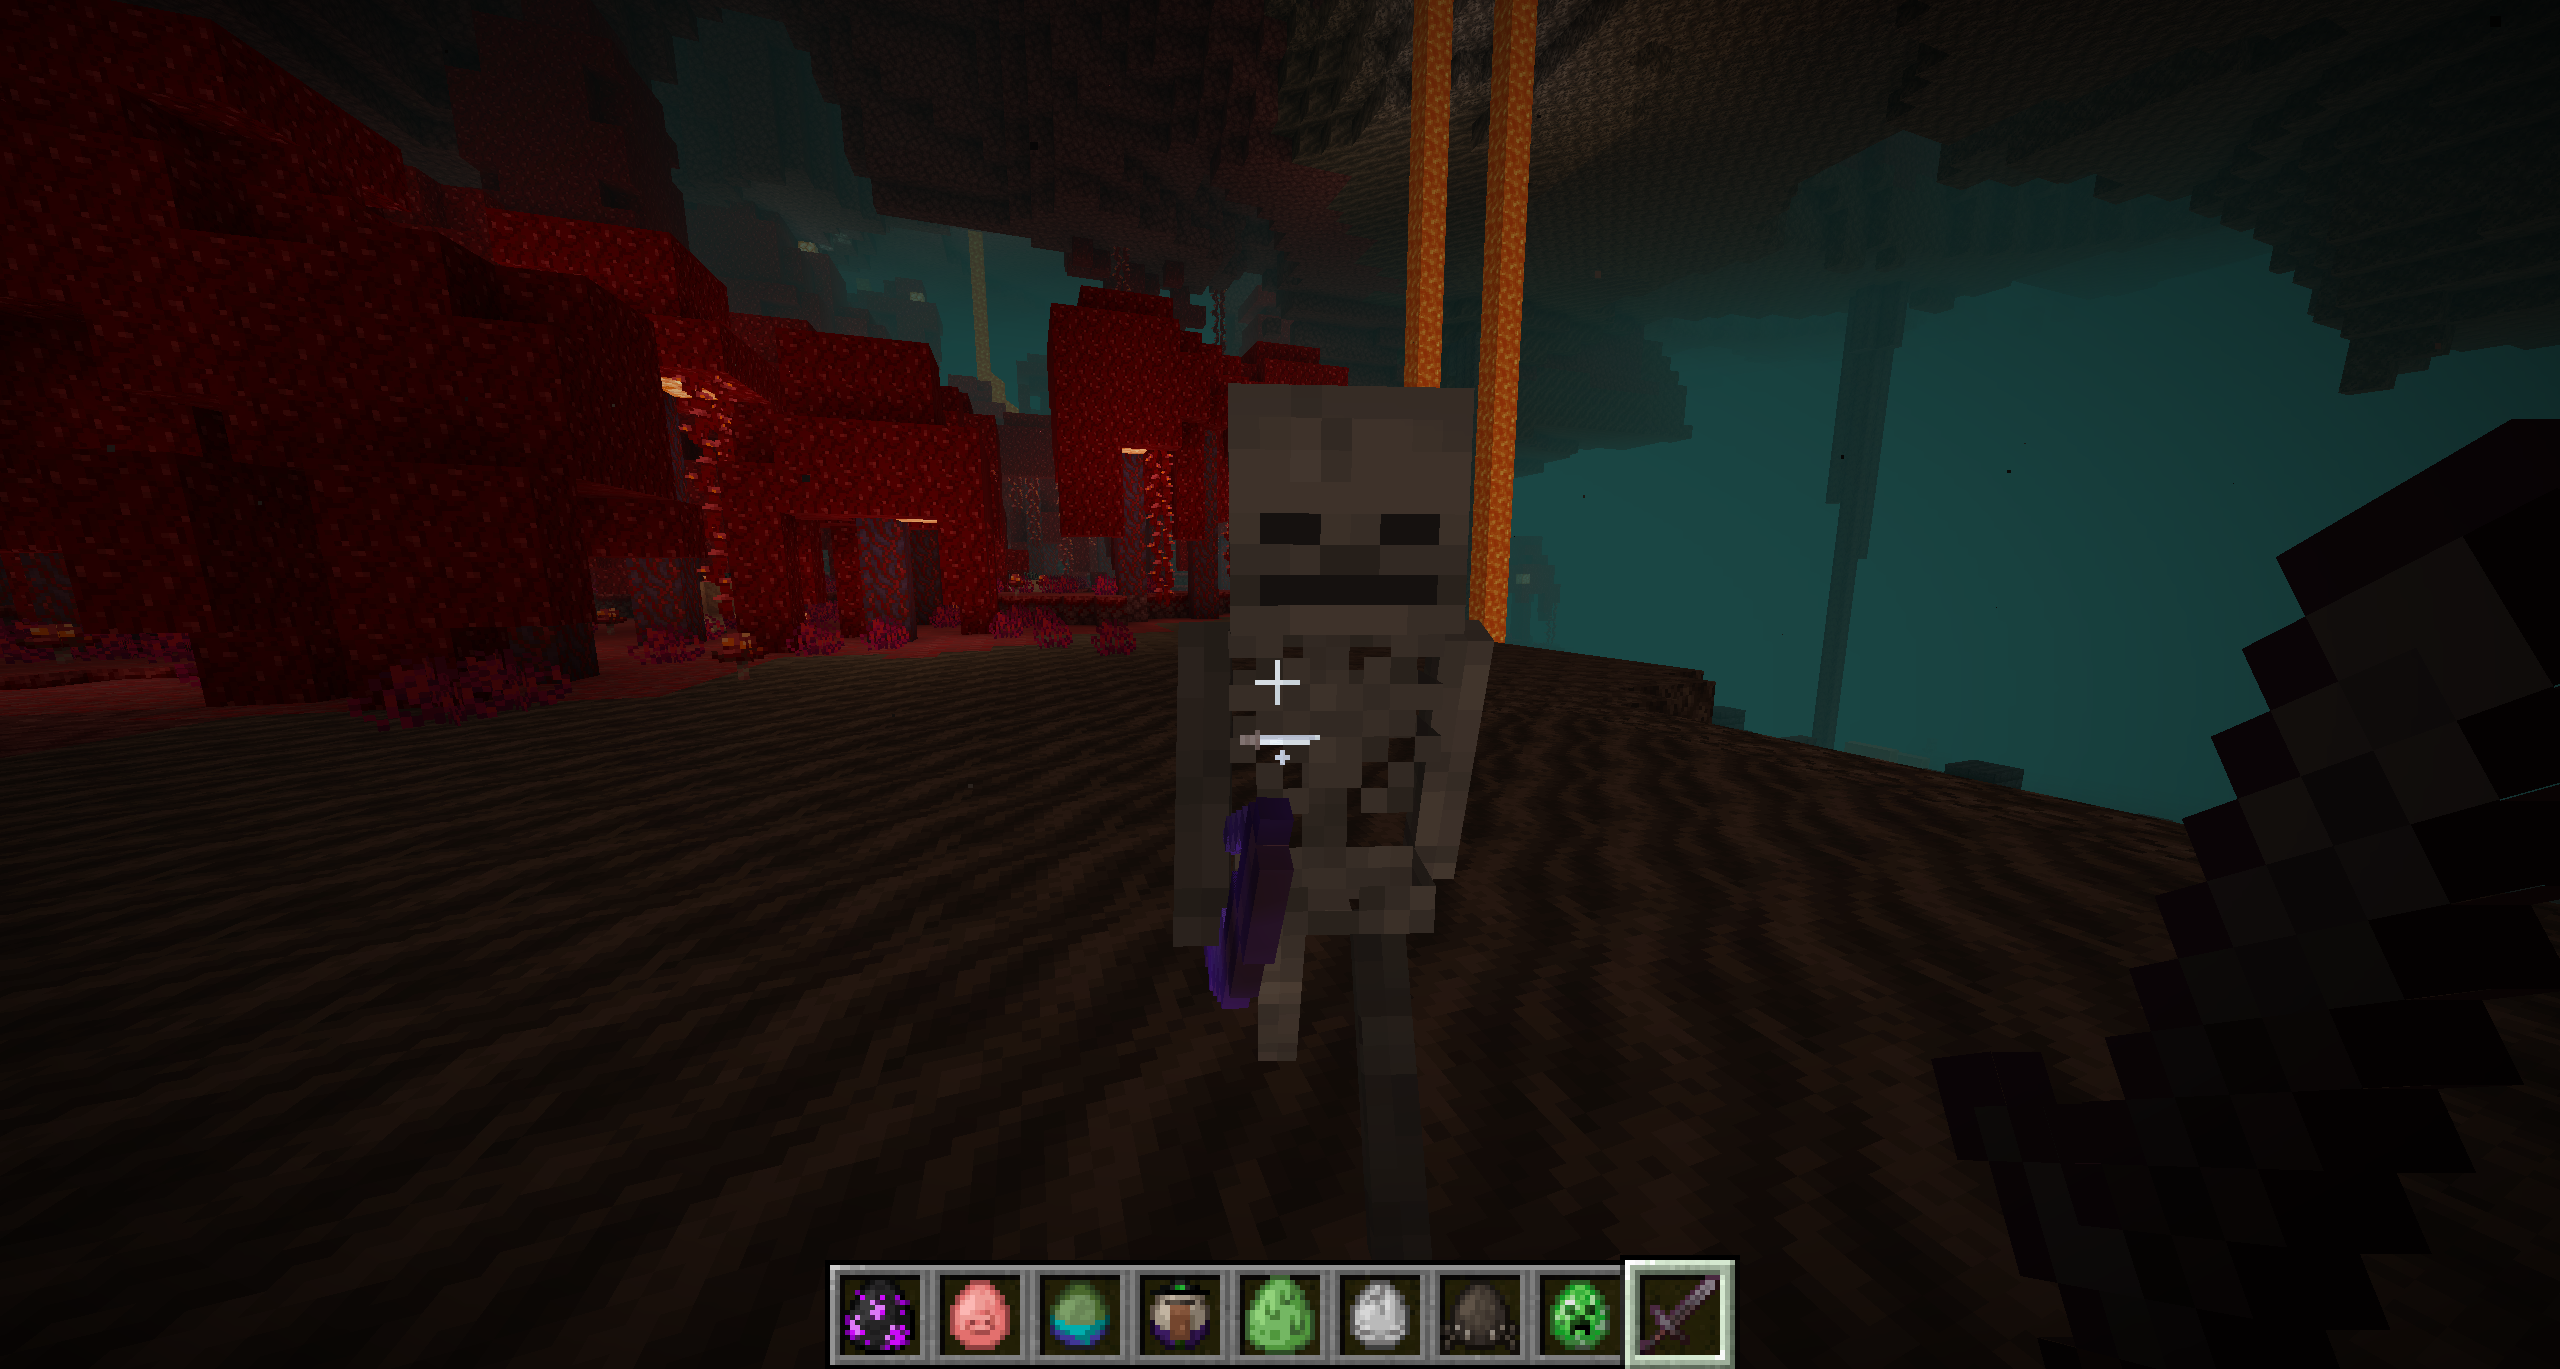squelettes: (1168, 345, 1497, 1237)
